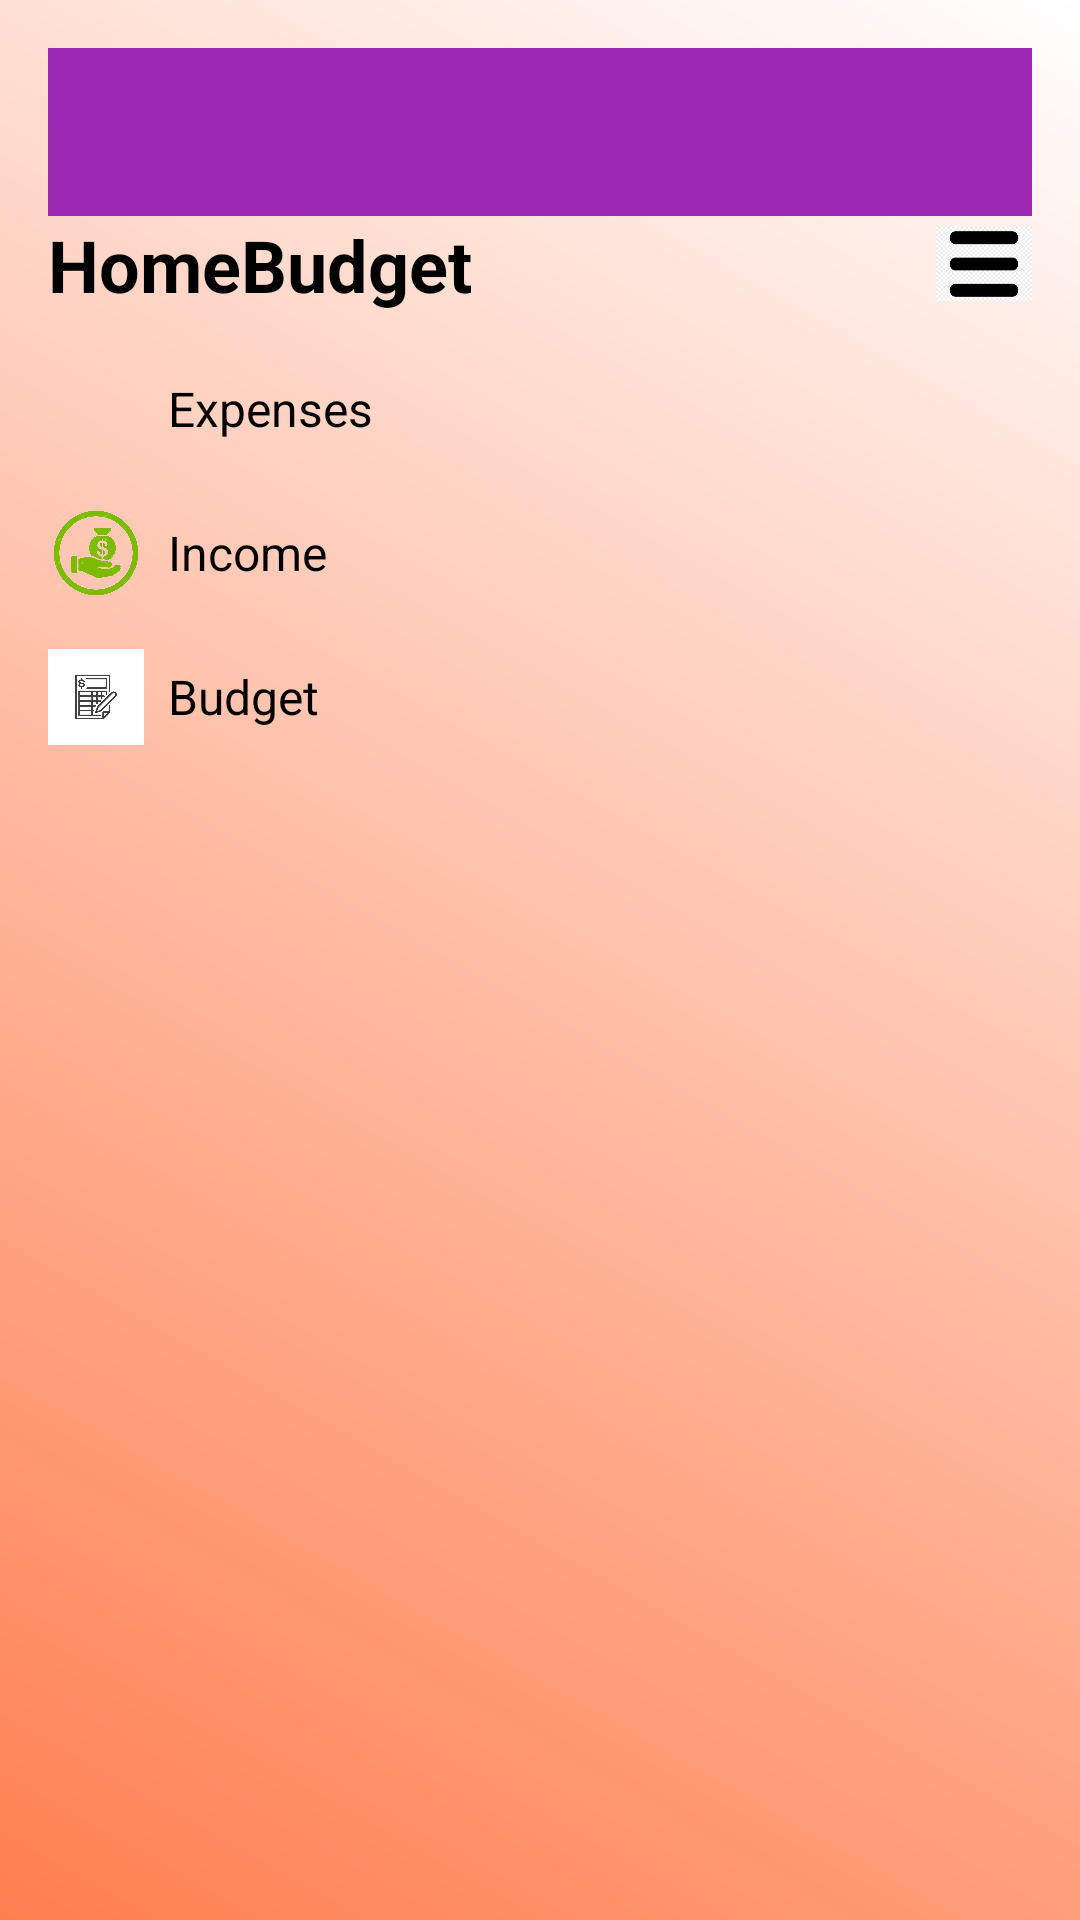

Where icons sit on this 1080 x 1920 app screen, as (x1, y1, x2, y2):
Menu Icon: (949, 231, 1019, 297)
